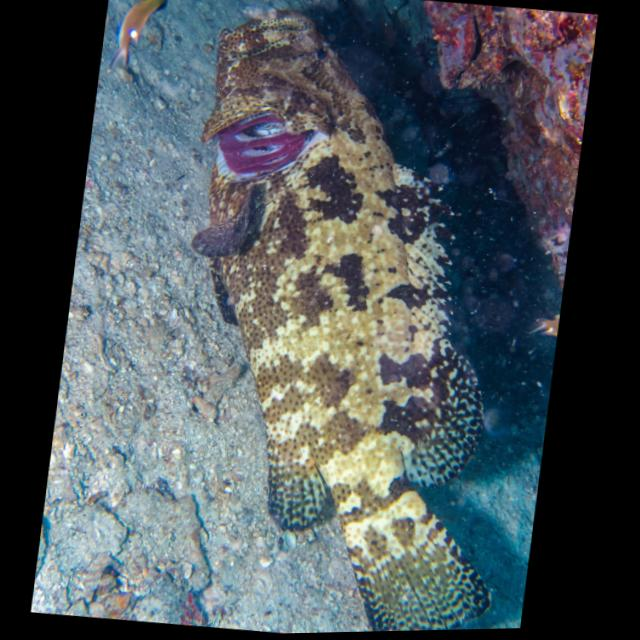Groupers: (143, 0, 567, 637)
